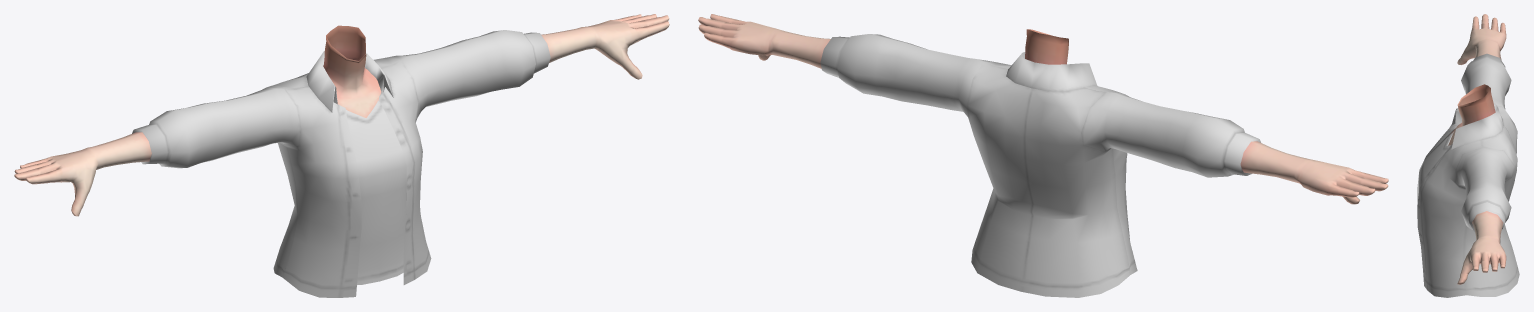
The model's file is tr0790_00_upb00.gltf.
3 renders of one model, left to right at view 1: azimuth 30°, elevation 25°; view 2: azimuth 150°, elevation 25°; view 3: azimuth 270°, elevation 25°, orthographic. The views are drawn at different scales.
Visible parts, largest first — view 1: upb00_upperbody_mesh_shape:upperbody00, upb00_upperskin_mesh_shape:upperbody00_skin; view 2: upb00_upperbody_mesh_shape:upperbody00, upb00_upperskin_mesh_shape:upperbody00_skin; view 3: upb00_upperbody_mesh_shape:upperbody00, upb00_upperskin_mesh_shape:upperbody00_skin.
Part boxes in pixels (left/top/right/bottom): upb00_upperbody_mesh_shape:upperbody00: left=132, top=30, right=550, bottom=297; upb00_upperskin_mesh_shape:upperbody00_skin: left=14, top=14, right=669, bottom=216; upb00_upperbody_mesh_shape:upperbody00: left=820, top=34, right=1260, bottom=297; upb00_upperskin_mesh_shape:upperbody00_skin: left=698, top=14, right=1388, bottom=204; upb00_upperbody_mesh_shape:upperbody00: left=1417, top=53, right=1519, bottom=297; upb00_upperskin_mesh_shape:upperbody00_skin: left=1448, top=14, right=1506, bottom=284.
Size of what is drawn, in the model's own units: 1.63 by 0.5586 by 0.2748.
Materials: 2 (2 with a texture image).
